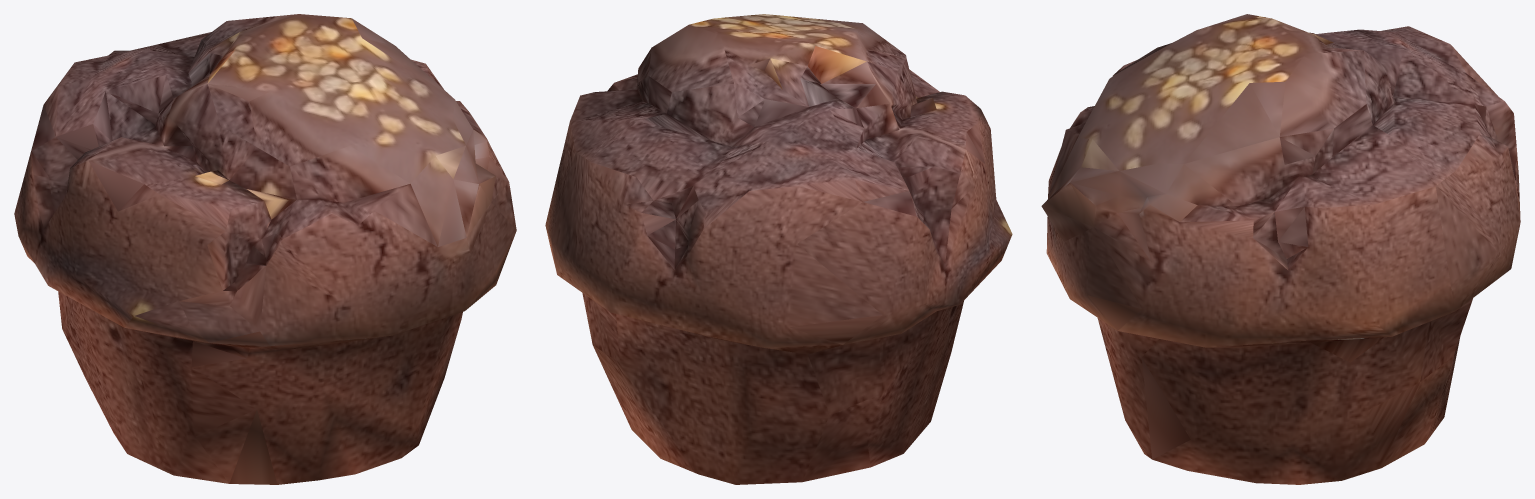
The model's file is muffin_496.obj.
The picture shows the model from 3 angles, left to right: view 1: azimuth 30°, elevation 25°; view 2: azimuth 150°, elevation 25°; view 3: azimuth 270°, elevation 25°; orthographic projection. The views are drawn at different scales.
Size of the model in its own units: 14.15 by 12.91 by 14.38.
Materials: 1 (1 with a texture image).
